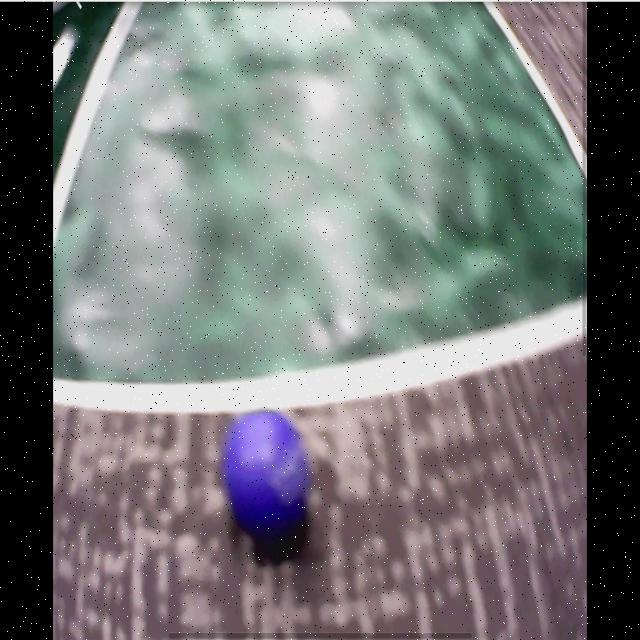ball: (224, 408, 309, 544)
